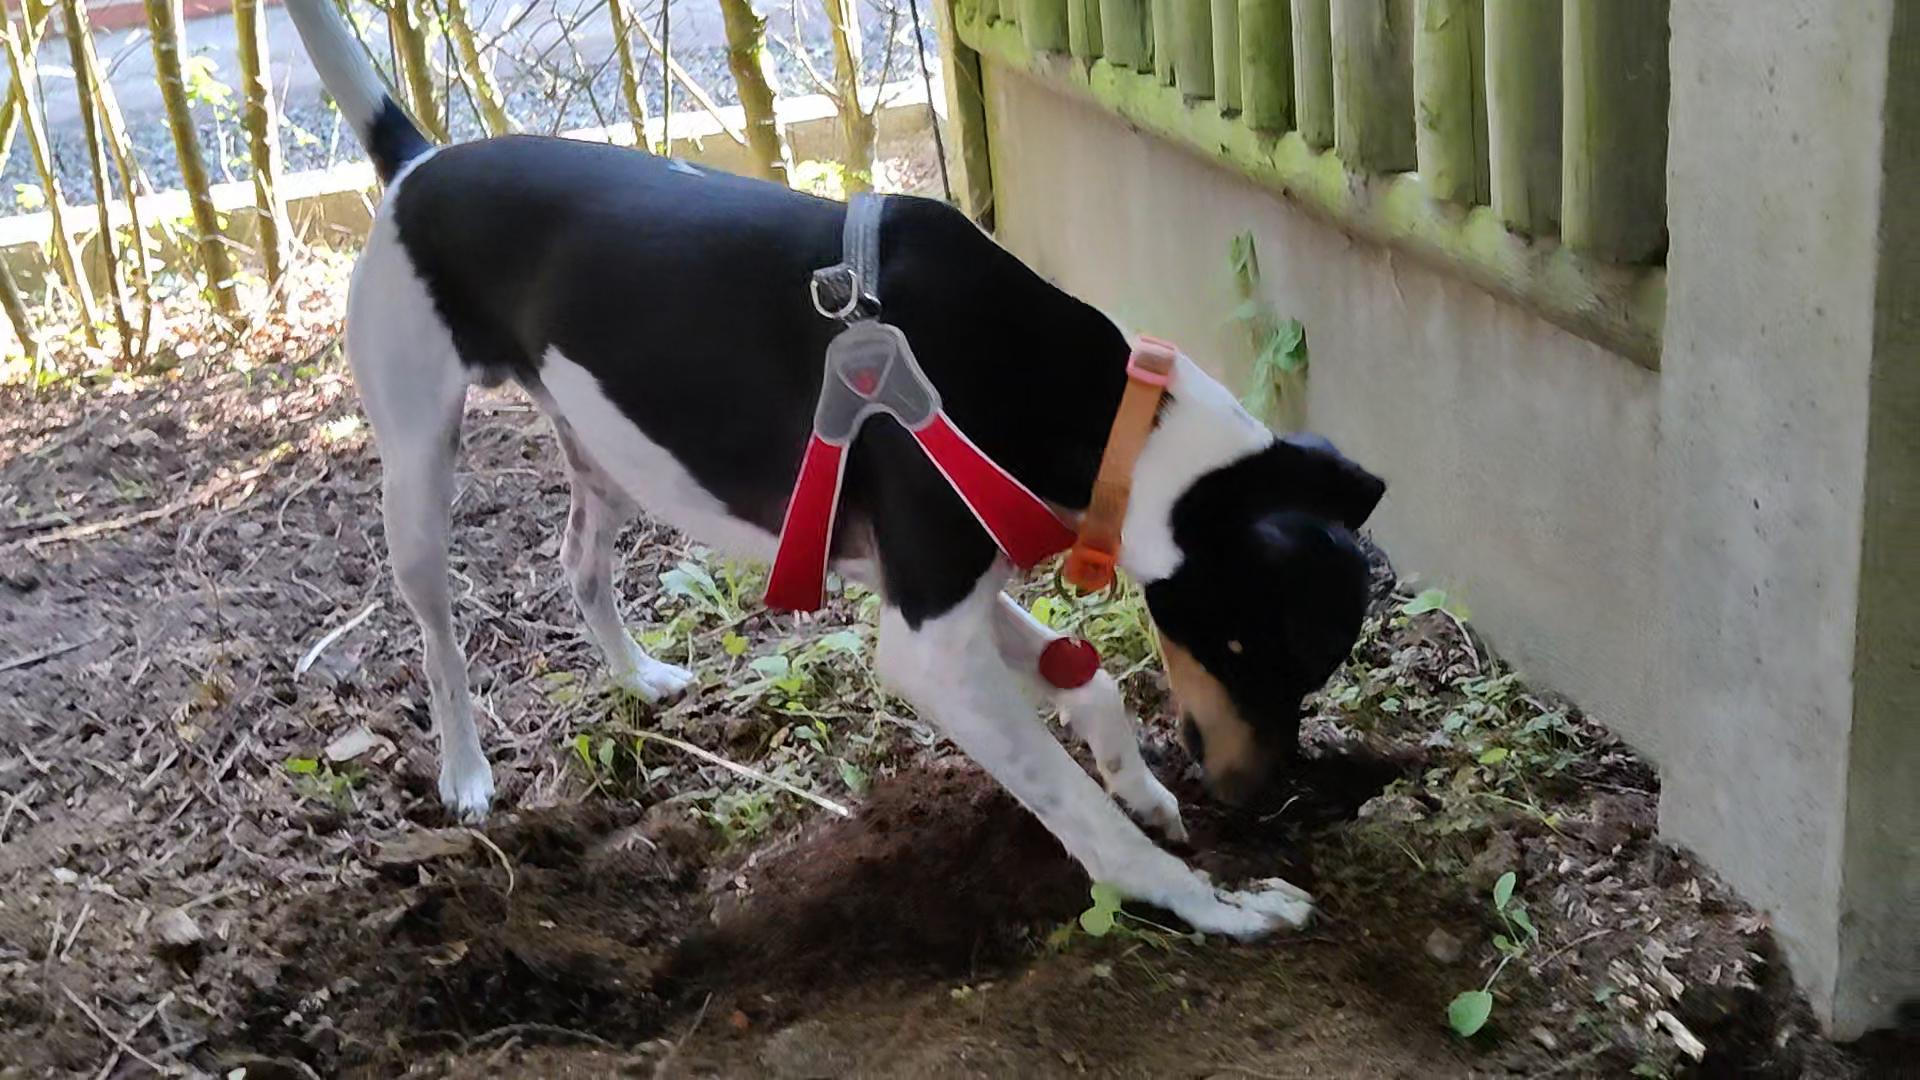Dog: (282, 0, 1396, 951)
